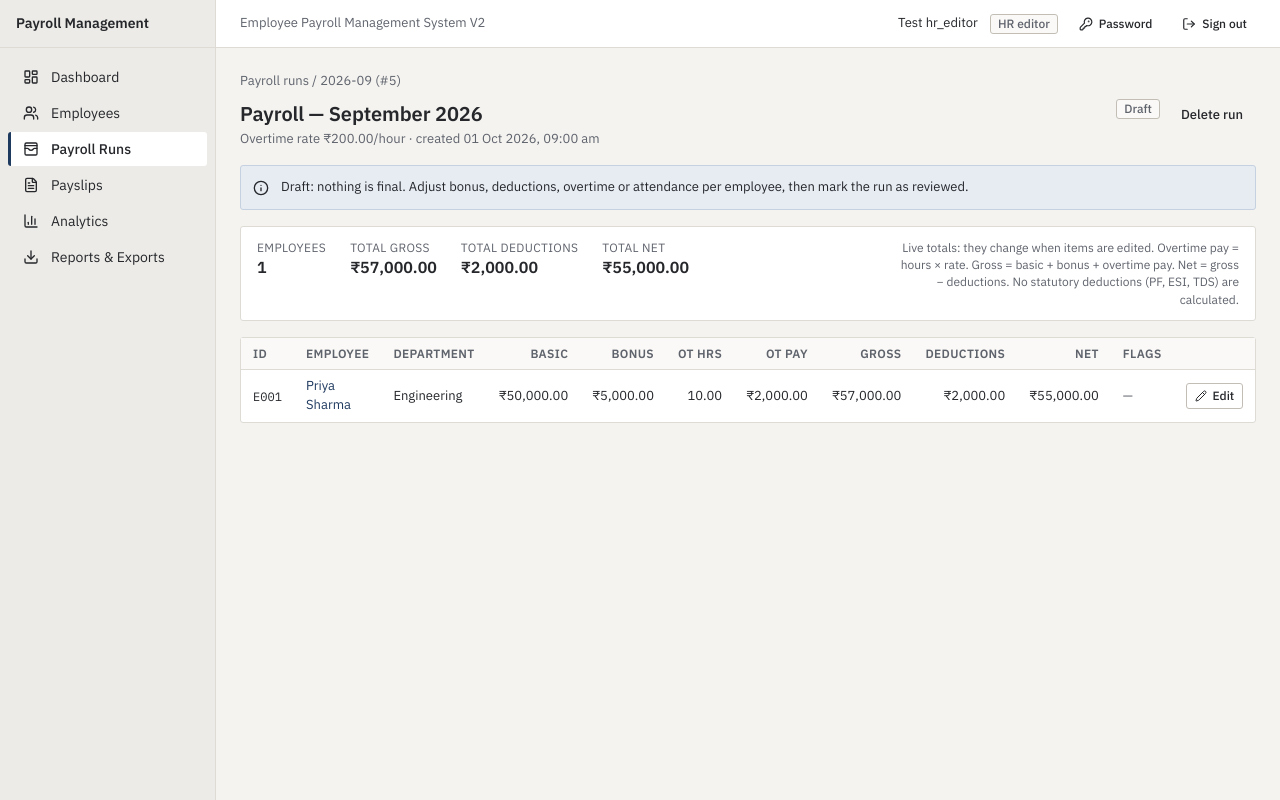
Test: Draft run › deleting a draft requires confirmation and returns to the list
The image size is (1280, 800).
Click the button "Delete run": (1212, 115) [1168, 99, 1256, 131]
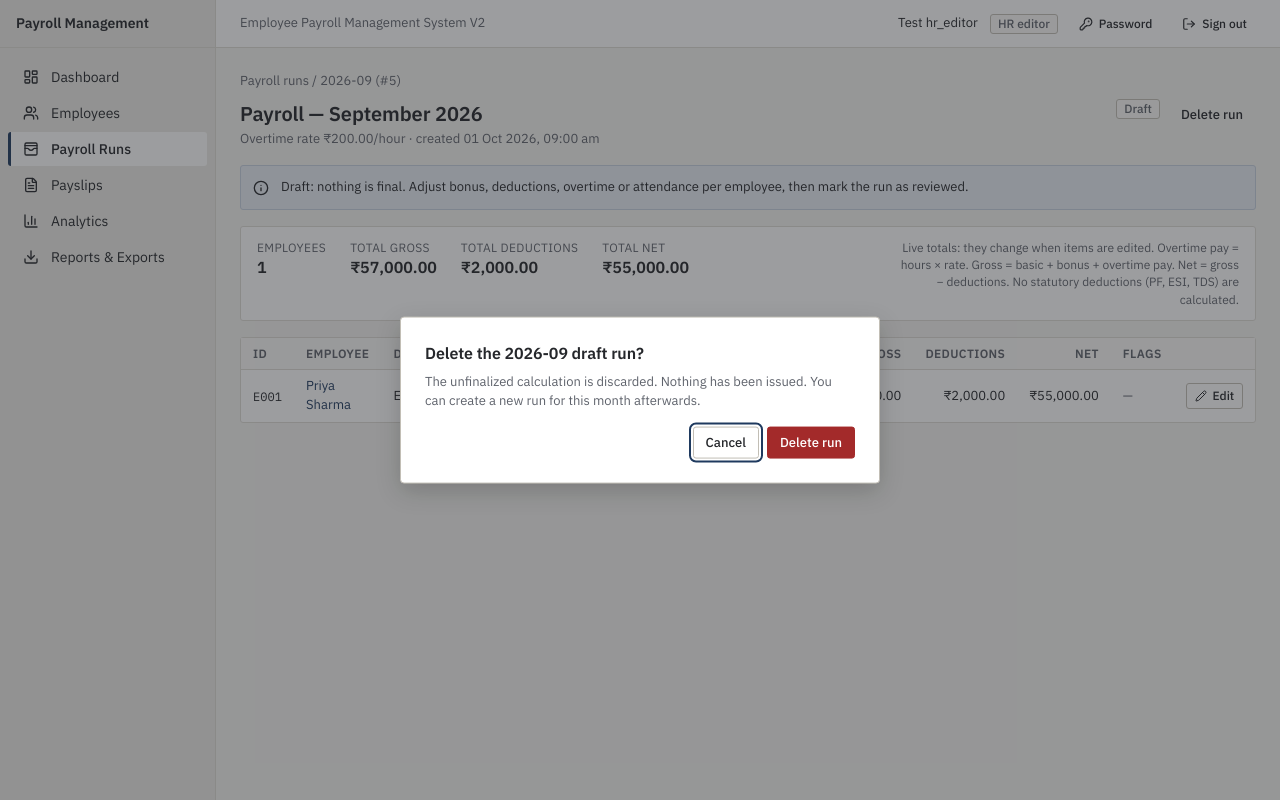
Click the button "Delete run": (811, 442) [767, 426, 855, 458]
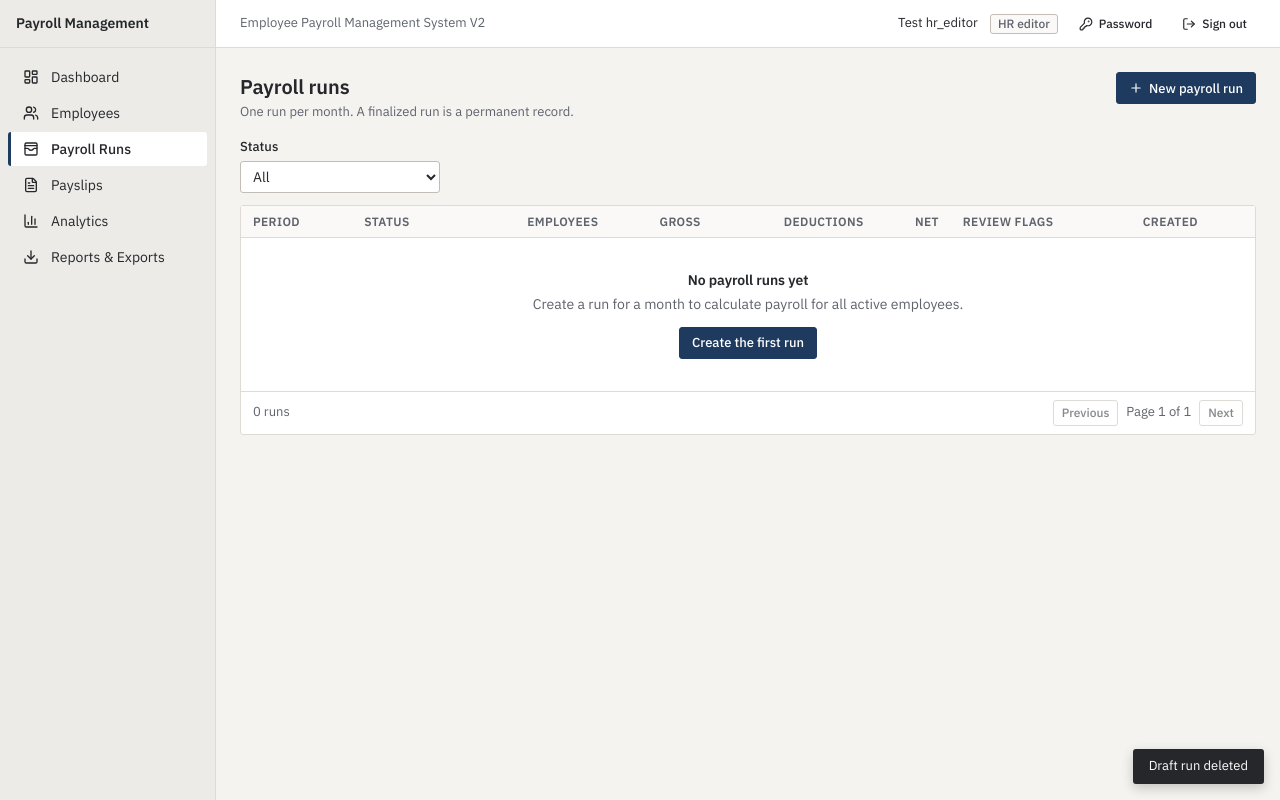
Expected: the heading "Payroll runs" is shown, [240, 73, 350, 100]
